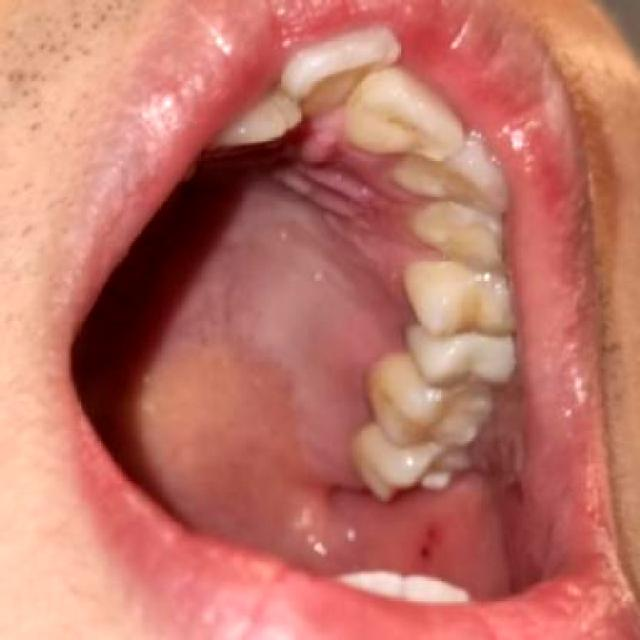Plaque: (333, 331, 425, 441)
